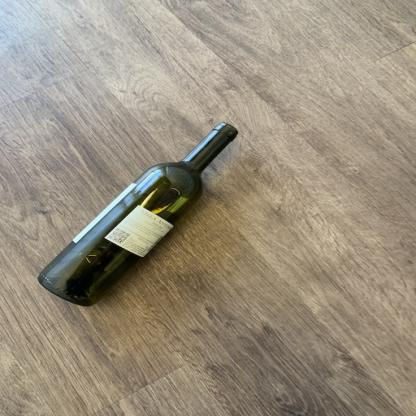trash: (37, 122, 239, 309)
